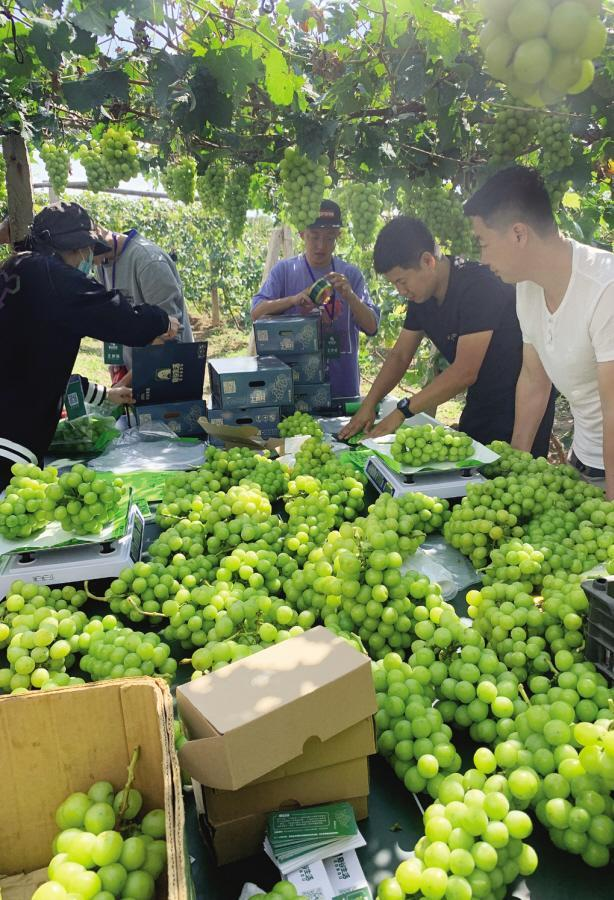apple: (390, 774, 537, 898), (469, 842, 496, 872)
